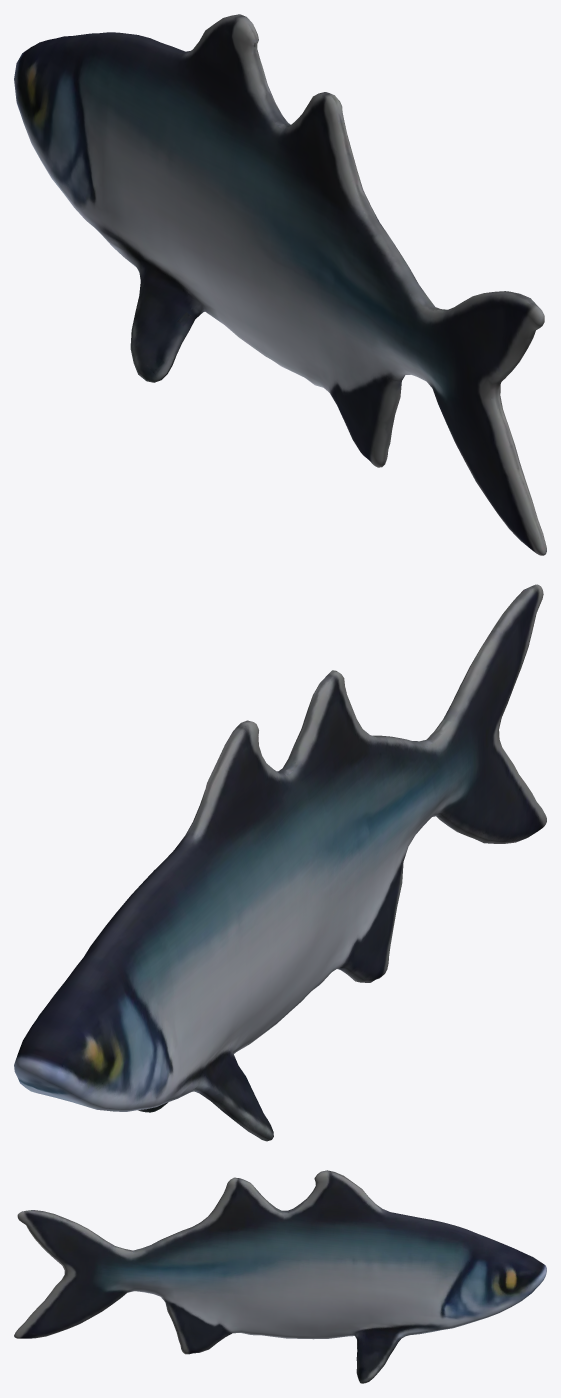
Rendered from fish-transformed.glb.
3 renders of one model, top to bottom at view 1: azimuth 30°, elevation 25°; view 2: azimuth 150°, elevation 25°; view 3: azimuth 270°, elevation 25°, orthographic. The views are drawn at different scales.
Visible parts, largest first — view 1: mesh; view 2: mesh; view 3: mesh.
Part boxes in pixels (x1,y1,x2,y2): mesh: (14, 14, 546, 555); mesh: (14, 584, 546, 1141); mesh: (14, 1170, 546, 1383).
Bounding box in the file's own units: 0.1547 × 0.4059 × 0.9977.
Materials: 1 (1 with a texture image).
